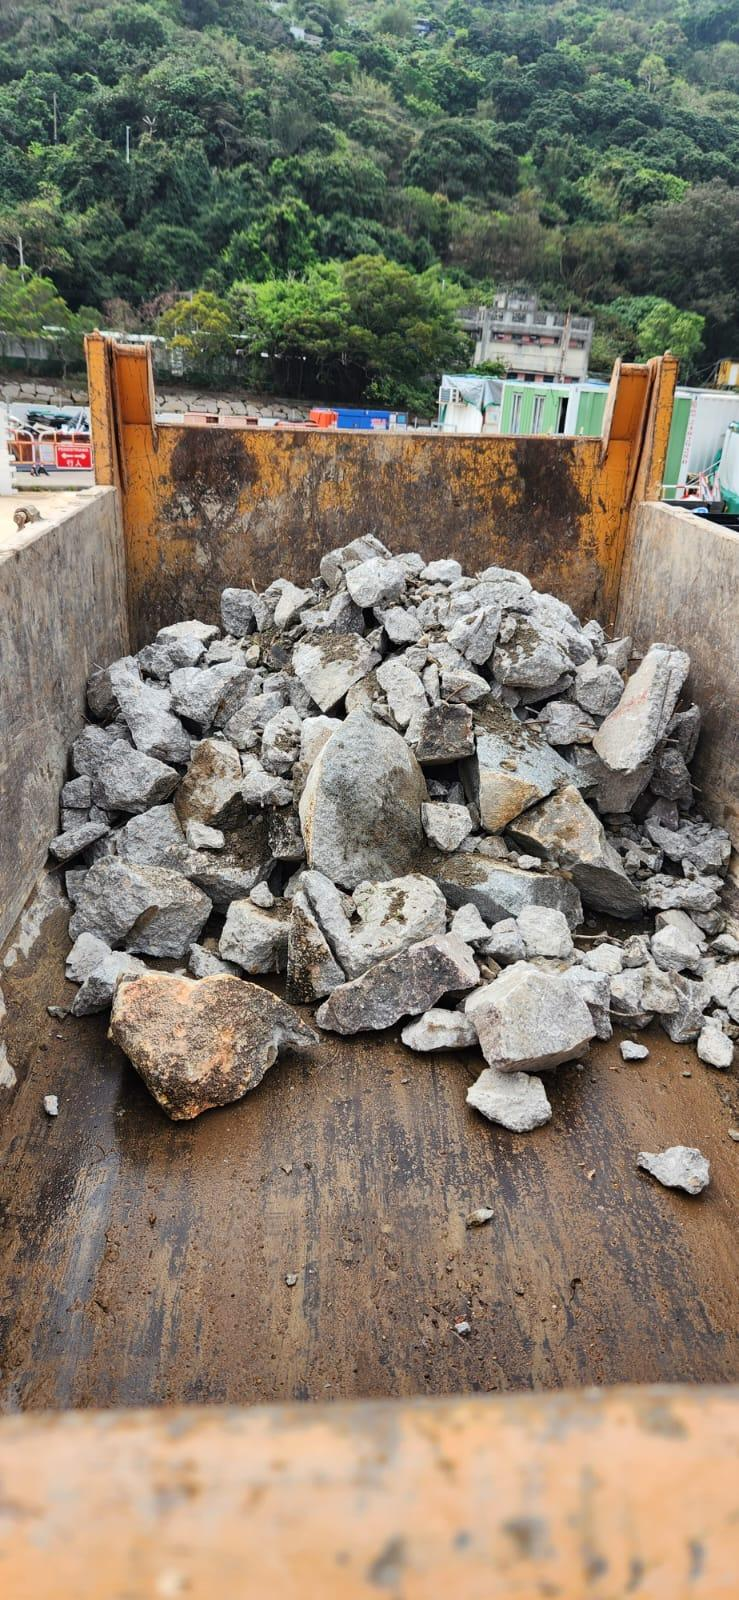dry: (62, 545, 739, 1133)
